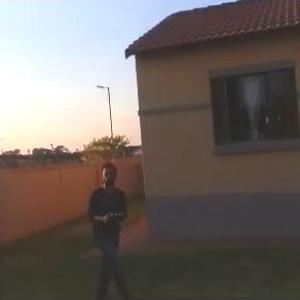follow: (81, 156, 139, 299)
